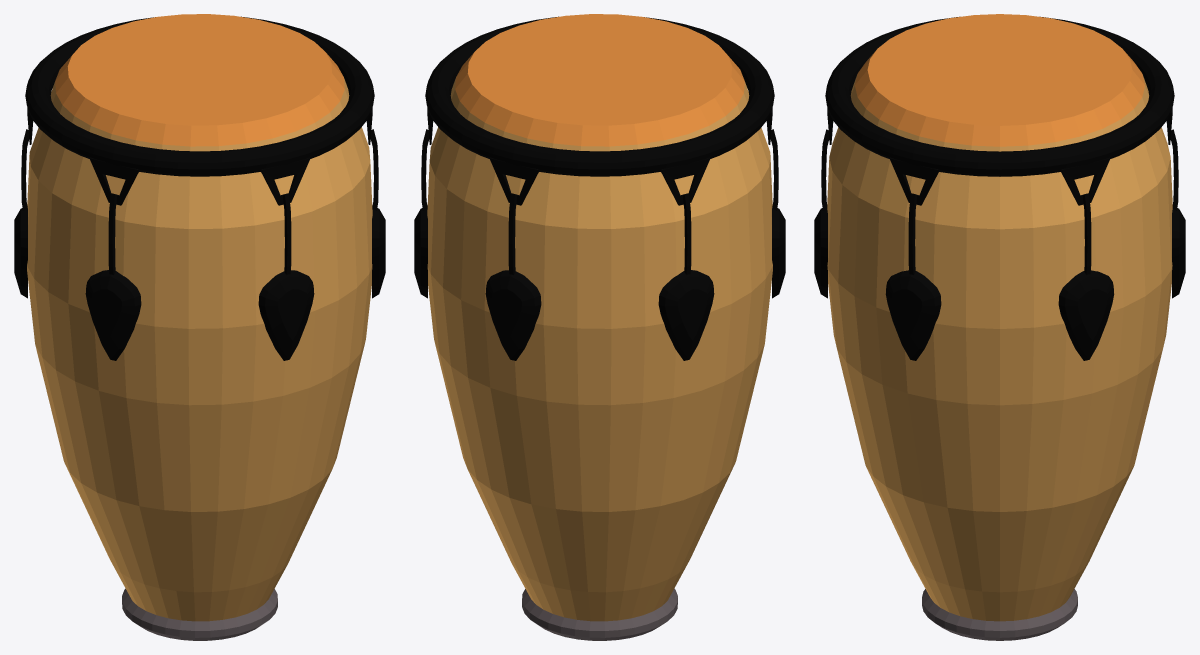
Rendered from Bongo.fbx.
The picture shows the model from 3 angles, left to right: view 1: azimuth 30°, elevation 25°; view 2: azimuth 150°, elevation 25°; view 3: azimuth 270°, elevation 25°; orthographic projection.
Parts seen in each view (by area): view 1: Circle, Torus.001, Plane, Cube, Cube.001; view 2: Circle, Torus.001, Plane, Cube, Cube.001; view 3: Circle, Torus.001, Plane, Cube, Cube.001.
Boxes of the visible parts, <box> form: Circle: <box>27,14,372,640</box>; Torus.001: <box>25,16,374,176</box>; Plane: <box>14,205,385,360</box>; Cube: <box>27,108,372,205</box>; Cube.001: <box>21,129,378,274</box>; Circle: <box>427,14,772,640</box>; Torus.001: <box>425,16,774,176</box>; Plane: <box>414,205,785,360</box>; Cube: <box>427,108,772,205</box>; Cube.001: <box>421,129,778,274</box>; Circle: <box>827,14,1172,640</box>; Torus.001: <box>825,16,1174,176</box>; Plane: <box>814,208,1185,360</box>; Cube: <box>827,108,1172,205</box>; Cube.001: <box>821,129,1178,274</box>.
Size of the model in its own units: 221 by 376 by 234.
